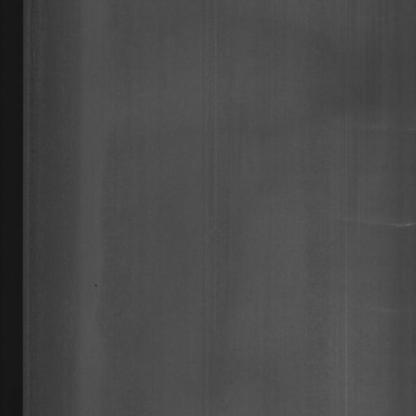inclusion: (94, 278, 99, 293)
